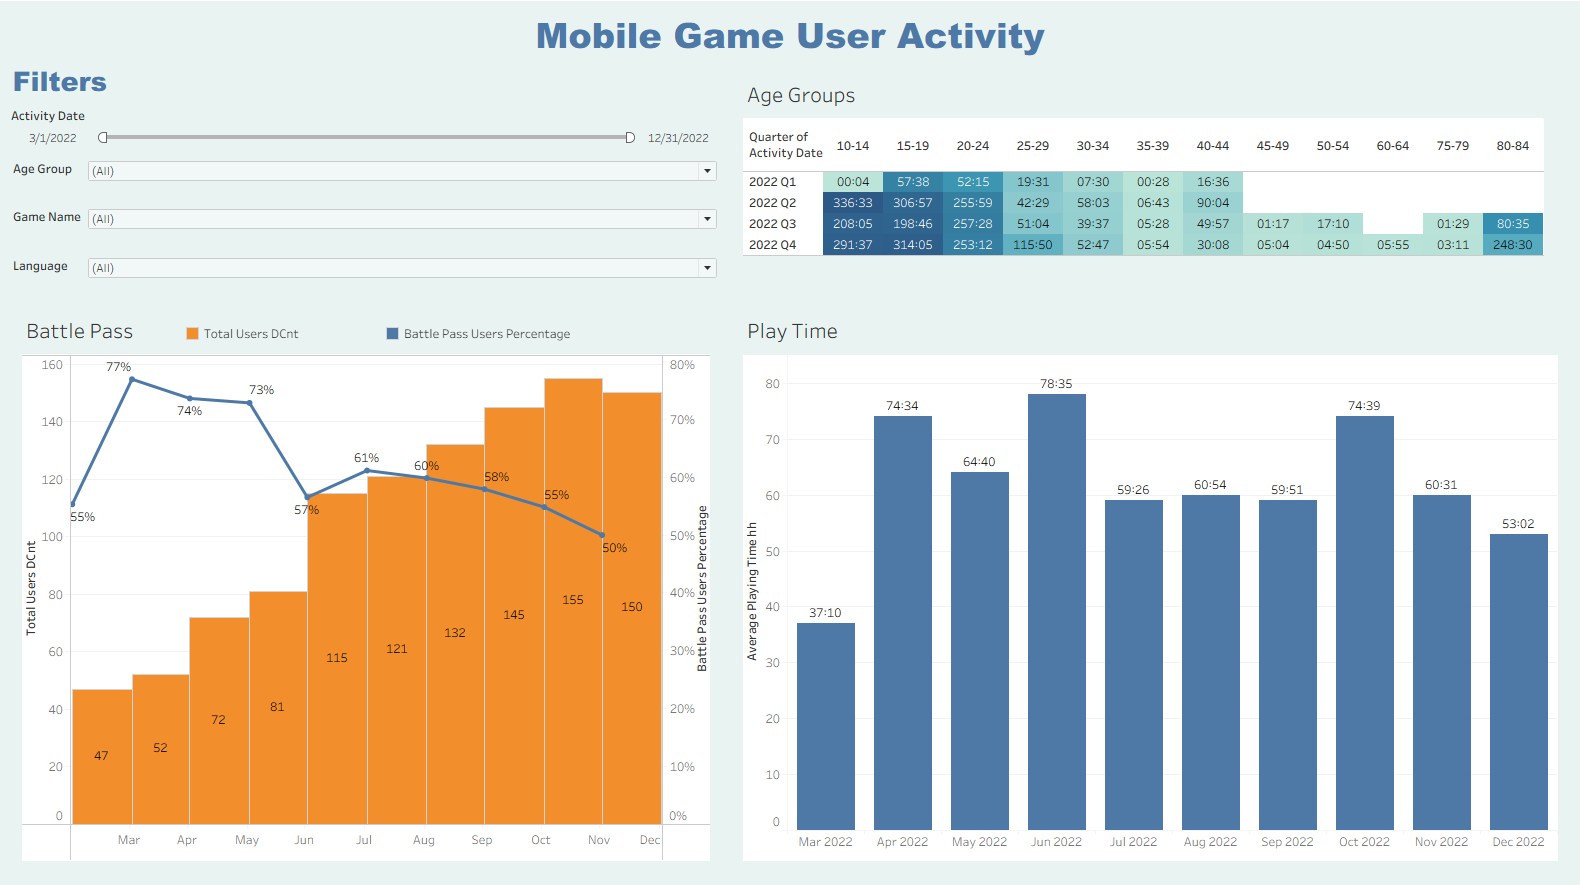

Layout of this report page (visuals, bound fields, positions):
{"tool":"tableau","page":{"name":"User Activity Dashboard","canvas":[1600,900],"ordinal":0},"visuals":[{"type":"text","box":[16,16,1568,51.4]},{"type":"text","box":[16,67.4,721,41.9]},{"type":"worksheet","title":"Age Groups","mark":"Square","rows":["activity_date"],"cols":["Calculation_2440113606373384"],"box":[737,67.4,847,235.3]},{"type":"filter","title":"Age Groups","param":"[federated.0dx9rtz1ky1ets11jomuh0o1ddvx].[none:activity_date:qk]","box":[16,109.2,721,48.4]},{"type":"filter","title":"Age Groups","param":"[federated.0dx9rtz1ky1ets11jomuh0o1ddvx].[none:Calculation_2440113606373384:nk]","box":[16,157.7,721,48.4]},{"type":"filter","title":"Age Groups","param":"[federated.0dx9rtz1ky1ets11jomuh0o1ddvx].[none:Calculation_2440113634160649:nk]","box":[16,206.1,721,48.4]},{"type":"filter","title":"Age Groups","param":"[federated.0dx9rtz1ky1ets11jomuh0o1ddvx].[none:language:nk]","box":[16,254.6,721,48.5]},{"type":"worksheet","title":"Play Time","mark":"Bar","rows":["Calculation_2440113601220614"],"cols":["activity_date"],"box":[737,302.7,847,581.3]},{"type":"worksheet","title":"Battle Pass","mark":"Automatic","rows":["Calculation_2440113589313536","Calculation_2440113592143875"],"cols":["activity_date"],"box":[16,303.1,721,580.9]},{"type":"legend","title":"Battle Pass","param":"[federated.0dx9rtz1ky1ets11jomuh0o1ddvx].[:Measure Names]","box":[192,330,525,29]}]}

Visuals, with their boxes in screenshot pixels (x1, y1, x2, y2), scaled from the page's 1600x900 canvas onto the 1580x885 screenshot:
text: region(16, 16, 1564, 66)
text: region(16, 66, 728, 107)
"Age Groups" worksheet (Square marks): region(728, 66, 1564, 298)
"Age Groups" filter: region(16, 107, 728, 155)
"Age Groups" filter: region(16, 155, 728, 203)
"Age Groups" filter: region(16, 203, 728, 250)
"Age Groups" filter: region(16, 250, 728, 298)
"Play Time" worksheet (Bar marks): region(728, 298, 1564, 869)
"Battle Pass" worksheet: region(16, 298, 728, 869)
"Battle Pass" legend: region(190, 324, 708, 353)
